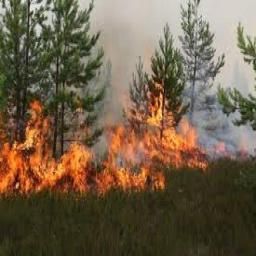Low smoke: (181, 57, 254, 163)
Medium fire: (0, 87, 256, 199)
